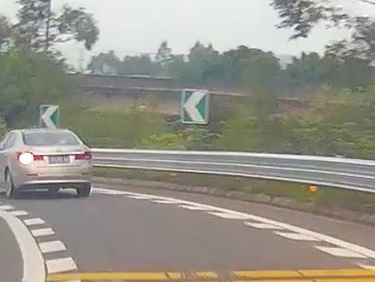L_light: (17, 152, 43, 164)
R_light: (75, 151, 92, 160)
T_light: (44, 132, 57, 134)
day-left: (14, 130, 93, 199)
